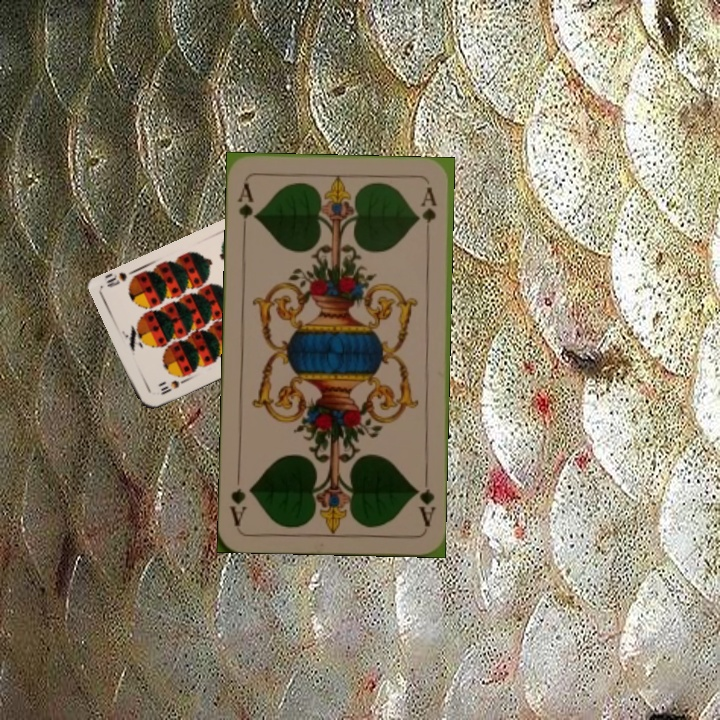GA: (411, 472, 438, 530), (233, 179, 259, 236)
S10: (156, 375, 189, 398)
